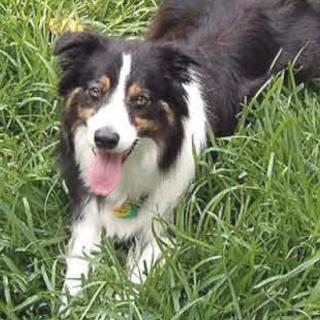dog: (32, 13, 198, 212)
nose: (94, 122, 120, 151)
